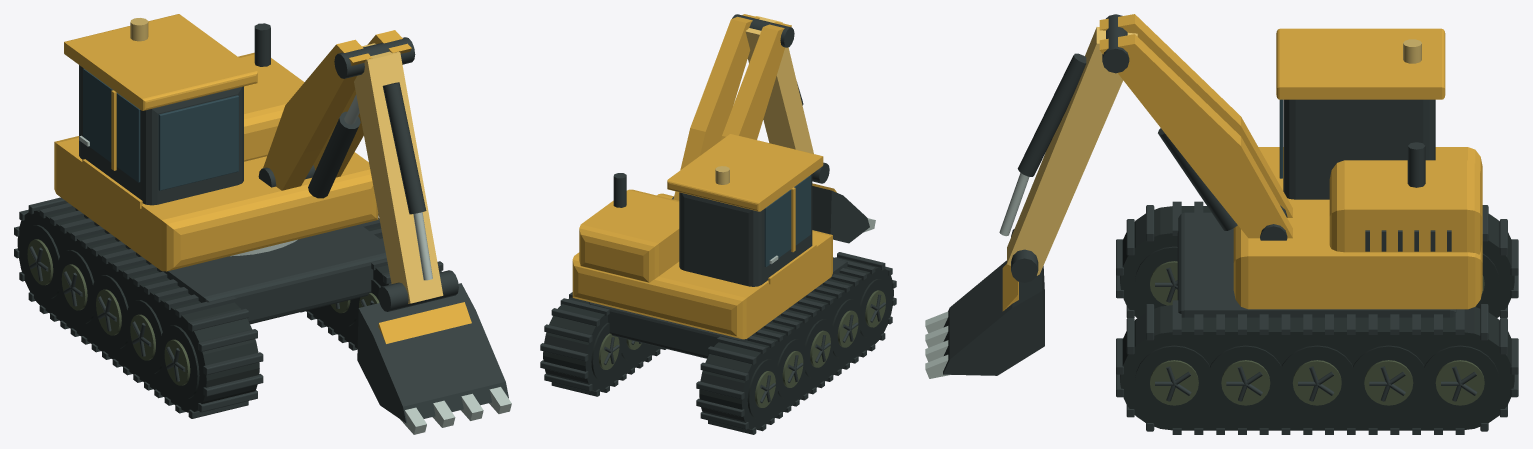
The model's file is excavator.glb.
The picture shows the model from 3 angles, left to right: view 1: azimuth 30°, elevation 25°; view 2: azimuth 150°, elevation 25°; view 3: azimuth 270°, elevation 25°; orthographic projection. The views are drawn at different scales.
Visible parts, largest first — view 1: upper_body_yellow, undercarriage_dark, bucket_dark, tracks_rubber, cab_roof_yellow, cab_glazing_glass, track_links_dark, stick_yellowLight, boom_yellow, road_wheels_rubber, cab_dark, hydraulics_dark (+9 smaller); view 2: upper_body_yellow, tracks_rubber, track_links_dark, boom_yellow, cab_dark, counterweight_yellow, cab_roof_yellow, road_wheels_rubber, undercarriage_dark, stick_yellowLight, road_wheels_oliveDark, cab_glazing_glass (+5 smaller); view 3: tracks_rubber, upper_body_yellow, road_wheels_rubber, boom_yellow, counterweight_yellow, cab_roof_yellow, cab_dark, stick_yellowLight, track_links_dark, bucket_dark, road_wheels_oliveDark, undercarriage_dark (+8 smaller).
Part boxes in pixels (x1,y1,x2,y2): upper_body_yellow: [54, 136, 378, 271]; undercarriage_dark: [75, 208, 386, 324]; bucket_dark: [357, 283, 508, 423]; tracks_rubber: [17, 203, 441, 412]; cab_roof_yellow: [64, 14, 257, 110]; cab_glazing_glass: [83, 68, 238, 190]; track_links_dark: [14, 197, 443, 418]; stick_yellowLight: [354, 43, 443, 303]; boom_yellow: [263, 30, 411, 190]; road_wheels_rubber: [22, 225, 380, 398]; cab_dark: [79, 65, 243, 205]; hydraulics_dark: [308, 82, 426, 214]; upper_body_yellow: [572, 193, 832, 339]; tracks_rubber: [543, 257, 893, 429]; track_links_dark: [540, 252, 896, 434]; boom_yellow: [673, 14, 791, 200]; cab_dark: [679, 174, 812, 286]; counterweight_yellow: [579, 189, 679, 282]; cab_roof_yellow: [667, 134, 823, 211]; road_wheels_rubber: [591, 279, 889, 418]; undercarriage_dark: [589, 258, 847, 358]; stick_yellowLight: [745, 16, 813, 153]; road_wheels_oliveDark: [598, 290, 885, 407]; cab_glazing_glass: [764, 175, 810, 266]; tracks_rubber: [1120, 206, 1514, 430]; upper_body_yellow: [1233, 147, 1482, 309]; road_wheels_rubber: [1135, 246, 1499, 417]; boom_yellow: [1099, 14, 1292, 238]; counterweight_yellow: [1329, 160, 1481, 254]; cab_roof_yellow: [1276, 28, 1445, 99]; cab_dark: [1283, 99, 1435, 199]; stick_yellowLight: [1007, 27, 1137, 275]; track_links_dark: [1116, 201, 1518, 434]; bucket_dark: [943, 260, 1044, 375]; road_wheels_oliveDark: [1150, 261, 1484, 405]; undercarriage_dark: [1177, 212, 1456, 317].
Size of the model in its own units: 1.27 by 1.62 by 2.4.
